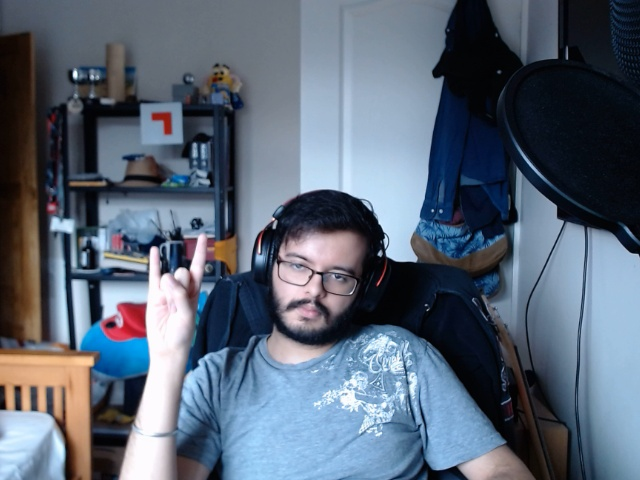Rock on: (134, 224, 214, 368)
